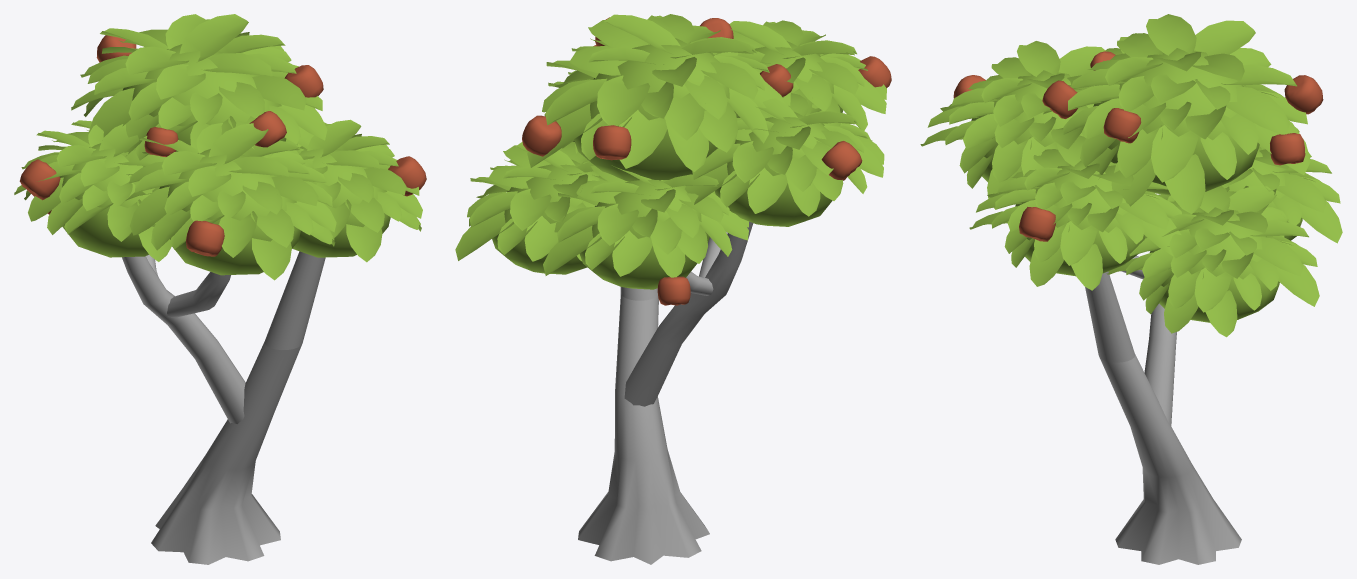
The model's file is Macieira.fbx.
3 renders of one model, left to right at view 1: azimuth 30°, elevation 25°; view 2: azimuth 150°, elevation 25°; view 3: azimuth 270°, elevation 25°, orthographic. The views are drawn at different scales.
Visible parts, largest first — view 1: pPlane51, pPlane49, pCylinder1, pPlane48, pPlane46, pCylinder2, pCylinder4, pCube1, pCube2, pCube7, pCube6, pCube5 (+2 smaller); view 2: pPlane51, pPlane47, pCylinder1, pPlane48, pPlane50, pPlane49, pCylinder2, pCube4, pCube3, pCube2, pCube9, pCube1 (+1 smaller); view 3: pPlane51, pPlane50, pPlane46, pCylinder1, pPlane49, pPlane47, pCylinder2, pCube3, pCube7, pCube5, pCube4, pCube6.
Boxes of the visible parts, x1=… form: pPlane51: x1=71, y1=14, x2=327, y2=160; pPlane49: x1=125, y1=123, x2=336, y2=280; pCylinder1: x1=151, y1=251, x2=325, y2=564; pPlane48: x1=14, y1=124, x2=171, y2=261; pPlane46: x1=285, y1=119, x2=422, y2=262; pCylinder2: x1=122, y1=256, x2=245, y2=423; pCylinder4: x1=167, y1=272, x2=230, y2=317; pCube1: x1=185, y1=220, x2=224, y2=256; pCube2: x1=19, y1=159, x2=60, y2=200; pCube7: x1=388, y1=156, x2=426, y2=196; pCube6: x1=249, y1=111, x2=286, y2=147; pCube5: x1=284, y1=65, x2=323, y2=97; pPlane51: x1=527, y1=14, x2=790, y2=181; pPlane47: x1=543, y1=165, x2=748, y2=289; pCylinder1: x1=578, y1=287, x2=709, y2=564; pPlane48: x1=684, y1=93, x2=884, y2=226; pPlane50: x1=455, y1=141, x2=603, y2=274; pPlane49: x1=729, y1=20, x2=886, y2=130; pCylinder2: x1=624, y1=221, x2=753, y2=406; pCube4: x1=522, y1=115, x2=561, y2=156; pCube3: x1=593, y1=125, x2=631, y2=160; pCube2: x1=821, y1=141, x2=862, y2=180; pCube9: x1=657, y1=276, x2=690, y2=305; pCube1: x1=858, y1=56, x2=891, y2=87; pPlane51: x1=1043, y1=14, x2=1310, y2=213; pPlane50: x1=1106, y1=185, x2=1319, y2=337; pPlane46: x1=969, y1=135, x2=1181, y2=290; pCylinder1: x1=1085, y1=271, x2=1241, y2=564; pPlane49: x1=920, y1=41, x2=1106, y2=209; pPlane47: x1=1158, y1=127, x2=1342, y2=243; pCylinder2: x1=1144, y1=303, x2=1176, y2=426; pCube3: x1=1284, y1=75, x2=1323, y2=114; pCube7: x1=1019, y1=207, x2=1055, y2=241; pCube5: x1=1103, y1=108, x2=1141, y2=143; pCube4: x1=1270, y1=133, x2=1305, y2=165; pCube6: x1=1042, y1=80, x2=1077, y2=118.
Bounding box in the file's own units: 300 × 414 × 324.
